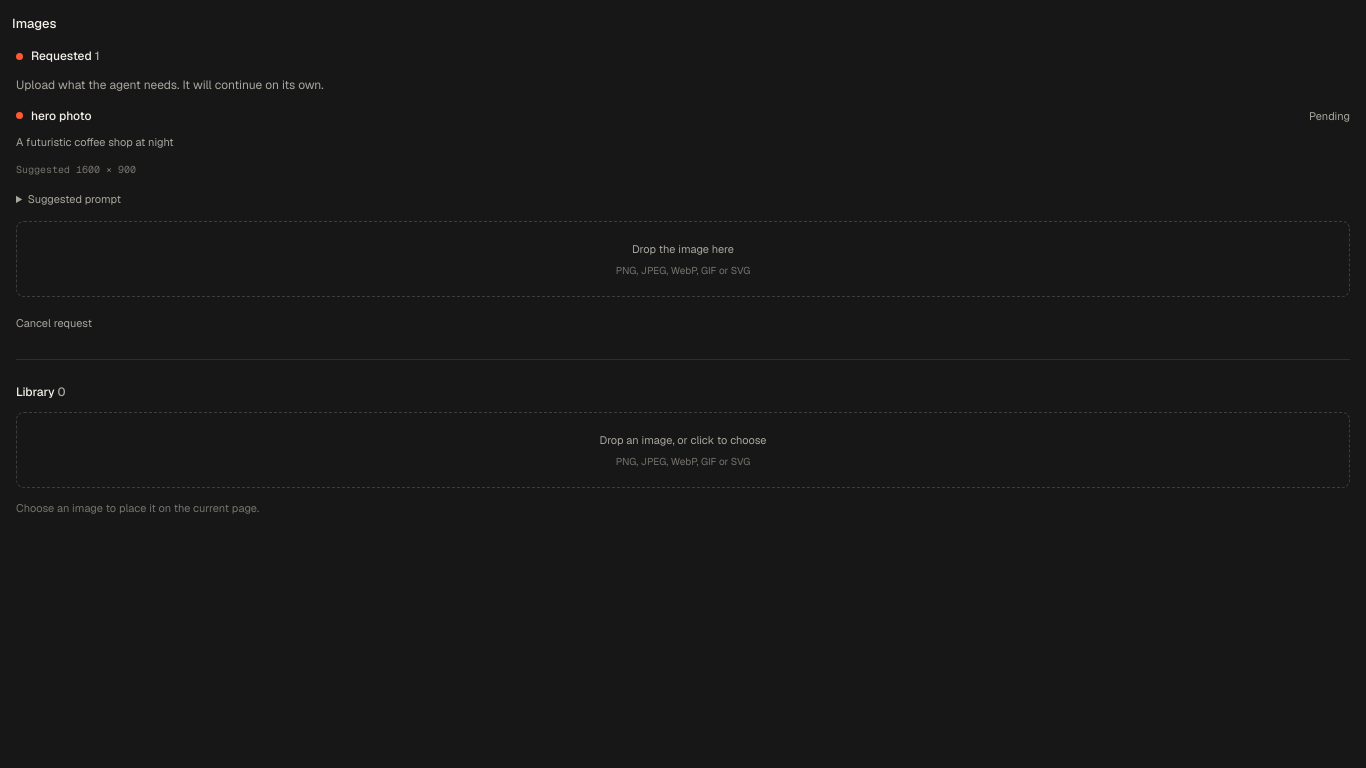
Scenario: the asset request flow › shows what the agent asked for, including the prompt it suggested
This screenshot has width=1366, height=768.
Expected: the heading "hero photo" is shown, x1=31 y1=108 x2=92 y2=124
Expected: the text "A futuristic coffee shop at night" is shown, x1=16 y1=135 x2=174 y2=149
Click the heading "Suggested prompt".
click(74, 199)  # box x1=28 y1=192 x2=121 y2=206
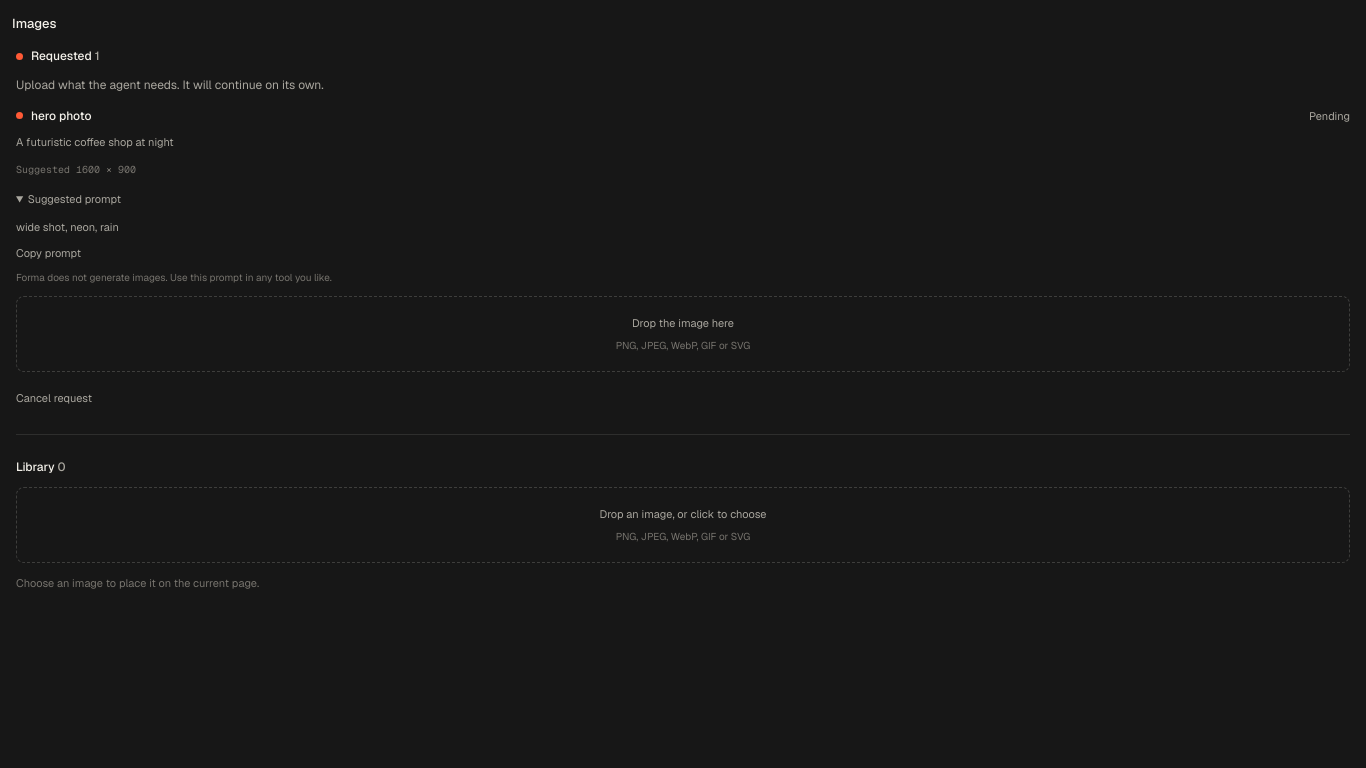
Expected: the text "Upload what the agent needs. It will continue on its own." is shown, x1=16 y1=77 x2=324 y2=93
Expected: the text "wide shot, neon, rain" is shown, x1=16 y1=220 x2=119 y2=234
